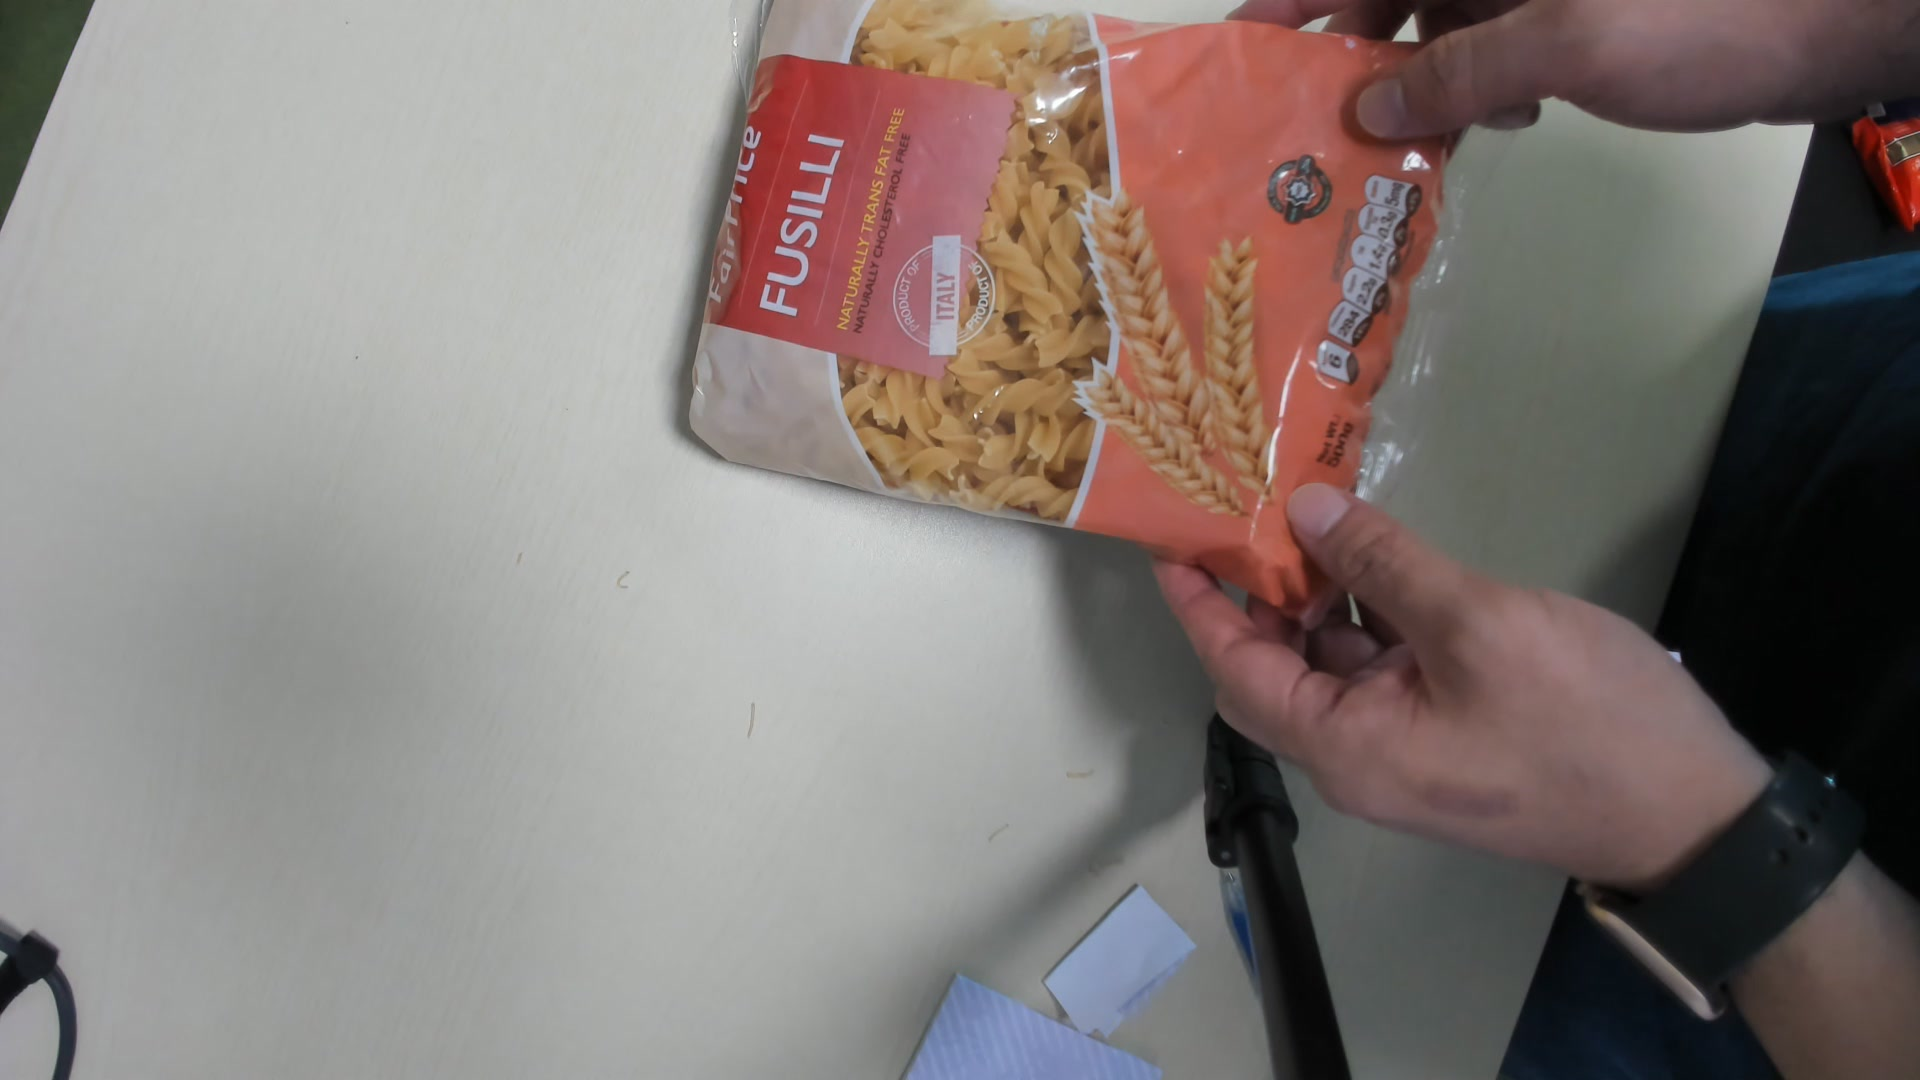Pasta_500-599g_Halal_NonHealthy: (676, 5, 1473, 615)
